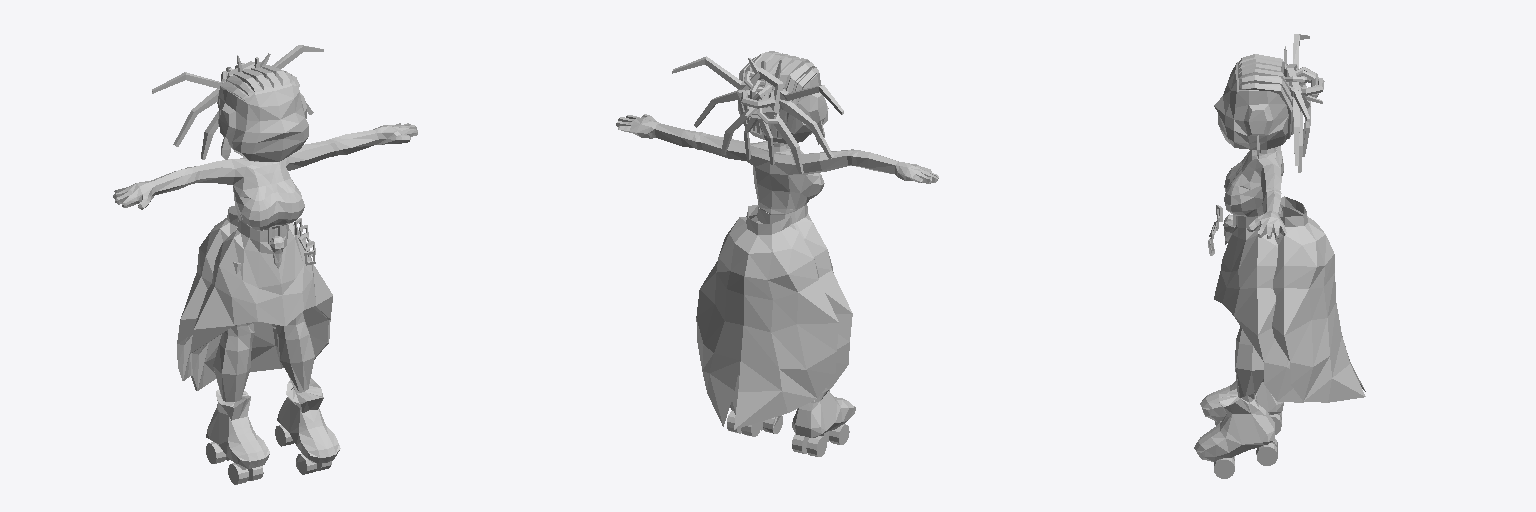
Rendered from WitchFINAL2_000007.obj.
3 renders of one model, left to right at view 1: azimuth 30°, elevation 25°; view 2: azimuth 150°, elevation 25°; view 3: azimuth 270°, elevation 25°, orthographic.
Visible parts, largest first — view 1: Body_Cylinder, Torso(Boobies)_Cylinder.002, LegR_Cube.004, LegL_Cube.003, Head_Cylinder.004, ZBody_Cylinder.001, Hair_Cylinder.006, Tail.001_Torus.001; view 2: ZBody_Cylinder.001, Torso(Boobies)_Cylinder.002, Body_Cylinder, LegR_Cube.004, Hair_Cylinder.006, Tail.001_Torus.001, Tail_Torus, Tail.002_Torus.002, Head_Cylinder.004, LegL_Cube.003; view 3: ZBody_Cylinder.001, Body_Cylinder, LegL_Cube.003, Torso(Boobies)_Cylinder.002, Head_Cylinder.004, Hair_Cylinder.006, LegR_Cube.004, Tail_Torus, Tail.002_Torus.002.
Part boxes in pixels (bbox=[...]): Body_Cylinder: bbox=[190, 220, 332, 390]; Torso(Boobies)_Cylinder.002: bbox=[113, 123, 417, 230]; LegR_Cube.004: bbox=[206, 262, 269, 484]; LegL_Cube.003: bbox=[275, 312, 340, 474]; Head_Cylinder.004: bbox=[218, 67, 308, 161]; ZBody_Cylinder.001: bbox=[177, 205, 238, 380]; Hair_Cylinder.006: bbox=[217, 65, 299, 110]; Tail.001_Torus.001: bbox=[152, 72, 225, 159]; ZBody_Cylinder.001: bbox=[696, 205, 839, 429]; Torso(Boobies)_Cylinder.002: bbox=[616, 114, 938, 214]; Body_Cylinder: bbox=[731, 204, 852, 414]; LegR_Cube.004: bbox=[792, 390, 855, 456]; Hair_Cylinder.006: bbox=[738, 51, 818, 138]; Tail.001_Torus.001: bbox=[757, 85, 843, 173]; Tail_Torus: bbox=[741, 58, 783, 123]; Tail.002_Torus.002: bbox=[672, 56, 757, 159]; Head_Cylinder.004: bbox=[738, 60, 828, 143]; LegL_Cube.003: bbox=[727, 405, 782, 436]; ZBody_Cylinder.001: bbox=[1272, 196, 1365, 402]; Body_Cylinder: bbox=[1214, 211, 1303, 402]; LegL_Cube.003: bbox=[1194, 265, 1277, 478]; Torso(Boobies)_Cylinder.002: bbox=[1224, 146, 1286, 238]; Head_Cylinder.004: bbox=[1214, 62, 1290, 149]; Hair_Cylinder.006: bbox=[1238, 54, 1293, 138]; LegR_Cube.004: bbox=[1200, 379, 1283, 434]; Tail_Torus: bbox=[1281, 46, 1324, 108]; Tail.002_Torus.002: bbox=[1290, 86, 1310, 172].
Size of the model in its own units: 13.47 by 16.8 by 6.49.